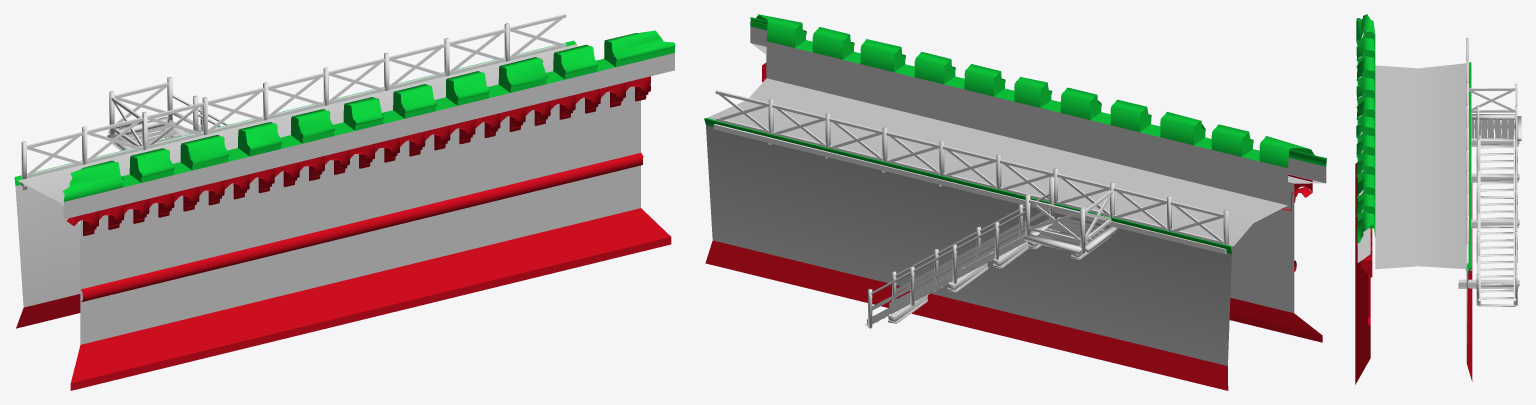
The model's file is Wall_1 (2).fbx.
3 views of the same model, side by side, from view 1: azimuth 30°, elevation 25°; view 2: azimuth 150°, elevation 25°; view 3: azimuth 270°, elevation 25° (orthographic). The views are drawn at different scales.
Visible parts, largest first — view 1: Group_4.015, Group_3.012, Group_3.011, Group_3.013; view 2: Group_4.015, Group_3.012, Group_3.011, Group_3.013; view 3: Group_4.015, Group_3.011, Group_3.012.
Boxes of the visible parts, box(x1,y1,x2,y2) form: Group_4.015: box(14, 30, 675, 390); Group_3.012: box(20, 14, 566, 190); Group_3.011: box(107, 77, 228, 150); Group_3.013: box(147, 102, 203, 148); Group_4.015: box(704, 14, 1326, 390); Group_3.012: box(713, 90, 1228, 254); Group_3.011: box(865, 176, 1117, 328); Group_3.013: box(1055, 173, 1111, 226); Group_4.015: box(1355, 14, 1472, 384); Group_3.011: box(1458, 84, 1521, 306); Group_3.012: box(1465, 37, 1471, 270).
Bounding box in the file's own units: 2095 × 691 × 654.
